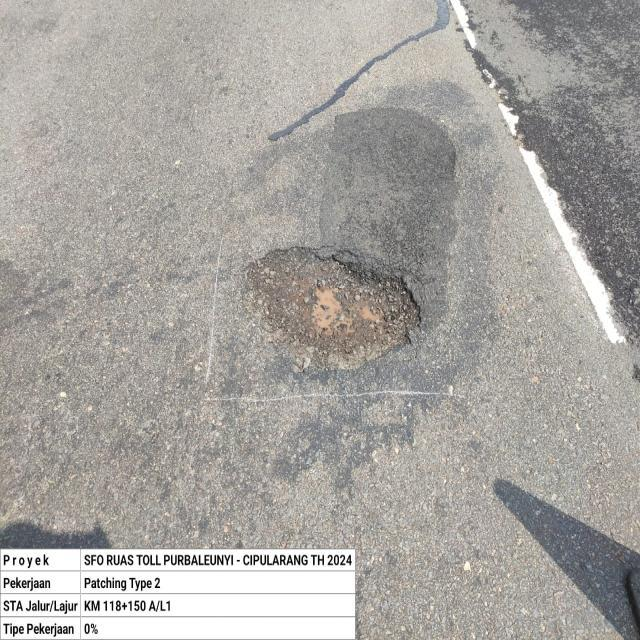Buraco: (238, 244, 426, 376)
